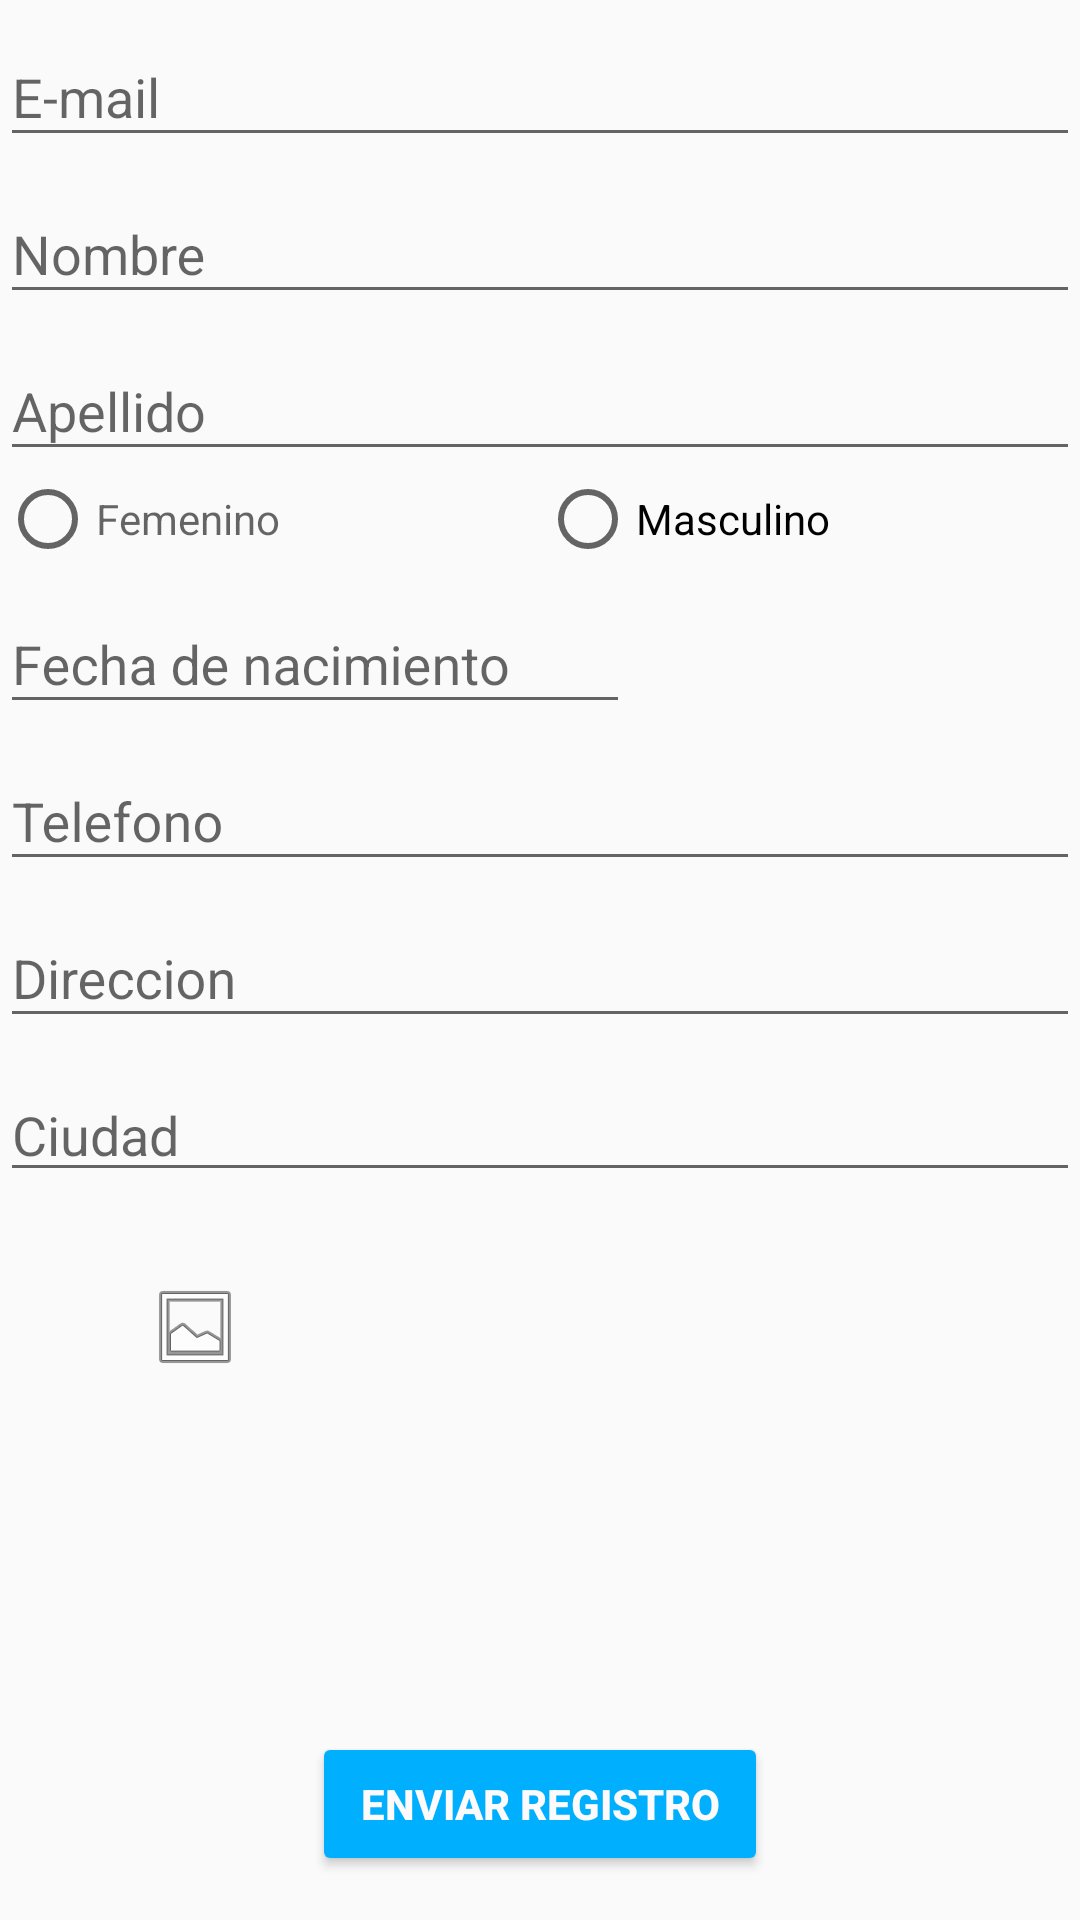

Screen size 1080 x 1920. Icon name, then its center in pixels as point (x, y):
gallery: point (195, 1327)
